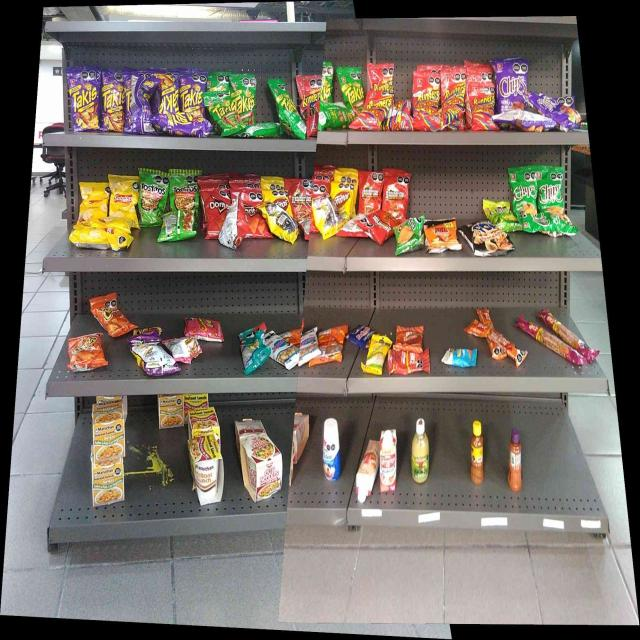bitzAlmendras: (442, 348, 475, 368)
bitzEnchilado90: (389, 354, 430, 373), (397, 325, 423, 352)
bitzEnchilado95: (507, 339, 529, 365), (463, 318, 486, 338)
bitzHabanero: (530, 312, 600, 366)
bokadosCacahuates: (347, 327, 366, 345)
botaneraChilito: (471, 422, 484, 483)
cheetosOriginal: (68, 335, 105, 368), (93, 297, 129, 328)
chipsFuego: (498, 60, 525, 109), (547, 98, 577, 131)
chipsJalapeno: (522, 217, 577, 238), (539, 171, 564, 212), (519, 173, 536, 213)
chipsPapatinas: (496, 202, 518, 231)
churrumais: (186, 318, 221, 341)
delPrimoSalsa: (412, 419, 429, 483)
doritosNacho: (201, 190, 226, 236), (246, 191, 264, 238)
fritosLimon: (332, 184, 352, 206), (268, 190, 290, 208)
hotNutsOriginal: (426, 222, 457, 250)
leoCacahuates: (271, 338, 296, 367), (300, 333, 316, 357)
maruchanPollo: (92, 404, 124, 458), (92, 465, 124, 505)
maruchanRes: (189, 433, 223, 504)
nestleCarnation: (356, 439, 376, 502), (380, 432, 396, 493)
nestleLechera: (322, 419, 341, 478)
nissinRes: (240, 438, 281, 497)
popKarameladas: (465, 222, 493, 255)
productoAtras: (130, 75, 152, 133), (136, 341, 170, 377), (498, 113, 545, 133), (270, 209, 297, 243), (227, 198, 243, 248), (314, 208, 340, 236), (322, 330, 344, 361), (168, 213, 194, 238), (323, 108, 350, 130), (172, 344, 200, 363)
rancheritos: (385, 174, 407, 214), (358, 171, 380, 210), (356, 219, 391, 242), (292, 183, 312, 208)
rufflesQueso: (395, 219, 423, 251)
runners: (467, 82, 492, 132), (412, 72, 440, 112), (300, 78, 318, 136), (364, 91, 386, 131), (423, 114, 465, 132), (369, 63, 395, 89), (443, 73, 464, 103)
sabritasOriginal: (71, 228, 129, 250), (111, 176, 136, 221), (80, 184, 107, 218)
semillasCalabaza: (368, 336, 387, 376)
semillasGirasol: (239, 330, 264, 368)
tajinDulce: (510, 430, 524, 491)
takisFuego: (70, 72, 98, 129), (102, 72, 123, 132), (156, 115, 212, 135), (158, 73, 178, 111), (181, 73, 202, 104)
takisOriginal: (272, 80, 295, 134), (240, 76, 258, 124), (216, 95, 236, 137), (338, 71, 362, 104)
tostitos: (139, 167, 165, 225), (170, 169, 197, 210)
